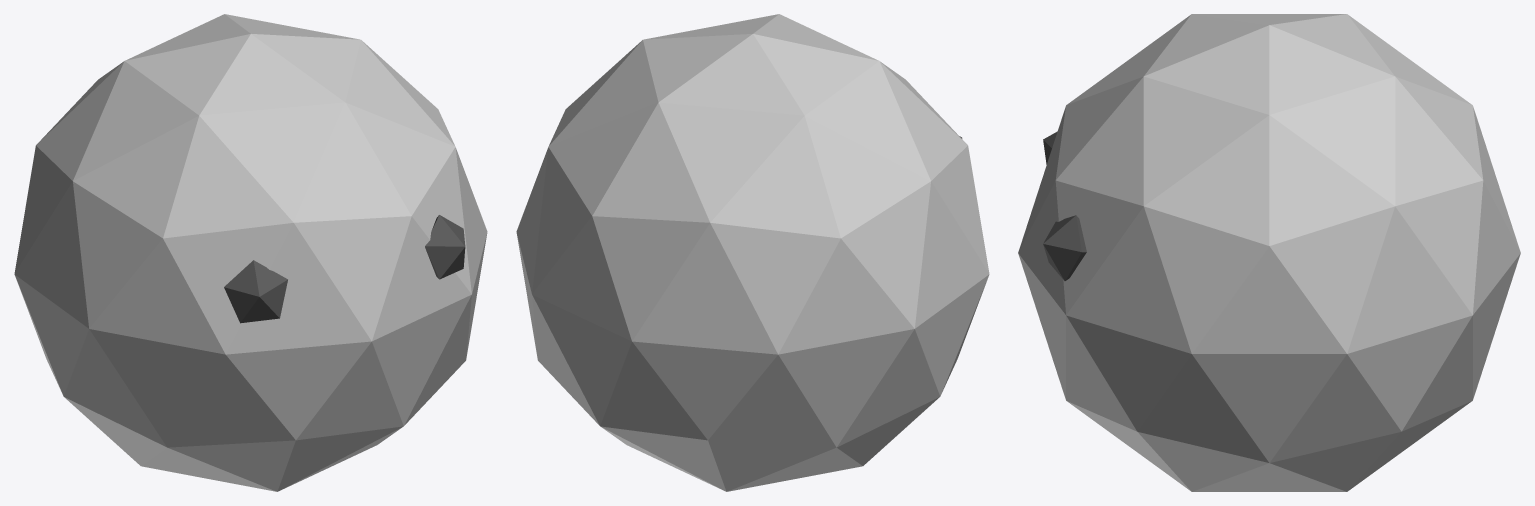
The model's file is Char_GL_Head.FBX.
The picture shows the model from 3 angles, left to right: view 1: azimuth 30°, elevation 25°; view 2: azimuth 150°, elevation 25°; view 3: azimuth 270°, elevation 25°; orthographic projection. The views are drawn at different scales.
Visible parts, largest first — view 1: GeoSphere001; view 2: GeoSphere001; view 3: GeoSphere001.
Boxes of the visible parts, box(x1,y1,x2,y2) form: GeoSphere001: box(14, 14, 487, 491); GeoSphere001: box(516, 14, 989, 491); GeoSphere001: box(1018, 14, 1520, 491).
Bounding box in the file's own units: 17.37 × 18.26 × 18.26.
